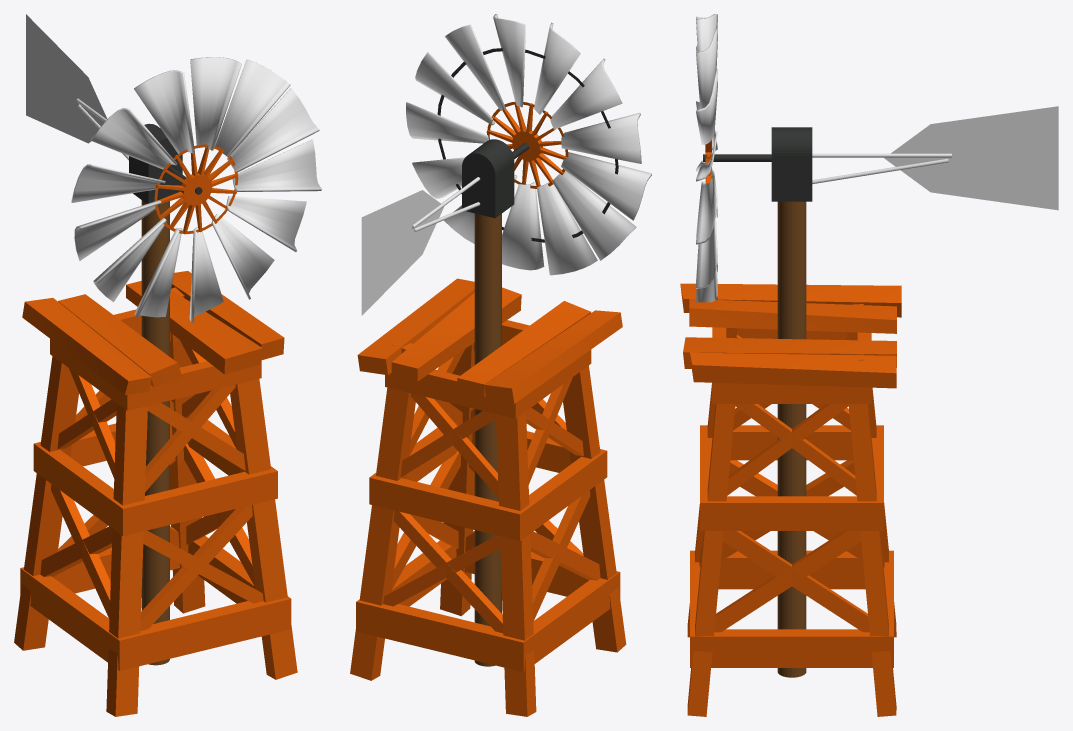
Rendered from WildWind.fbx.
The picture shows the model from 3 angles, left to right: view 1: azimuth 30°, elevation 25°; view 2: azimuth 150°, elevation 25°; view 3: azimuth 270°, elevation 25°; orthographic projection. The views are drawn at different scales.
Parts seen in each view (by area): view 1: WildWind; view 2: WildWind; view 3: WildWind.
Boxes of the visible parts, x1,y1,x2,y2 form: WildWind: [14, 14, 321, 716]; WildWind: [350, 14, 651, 716]; WildWind: [680, 14, 1058, 716].
Bounding box in the file's own units: 4.6 × 6.04 × 11.38.
